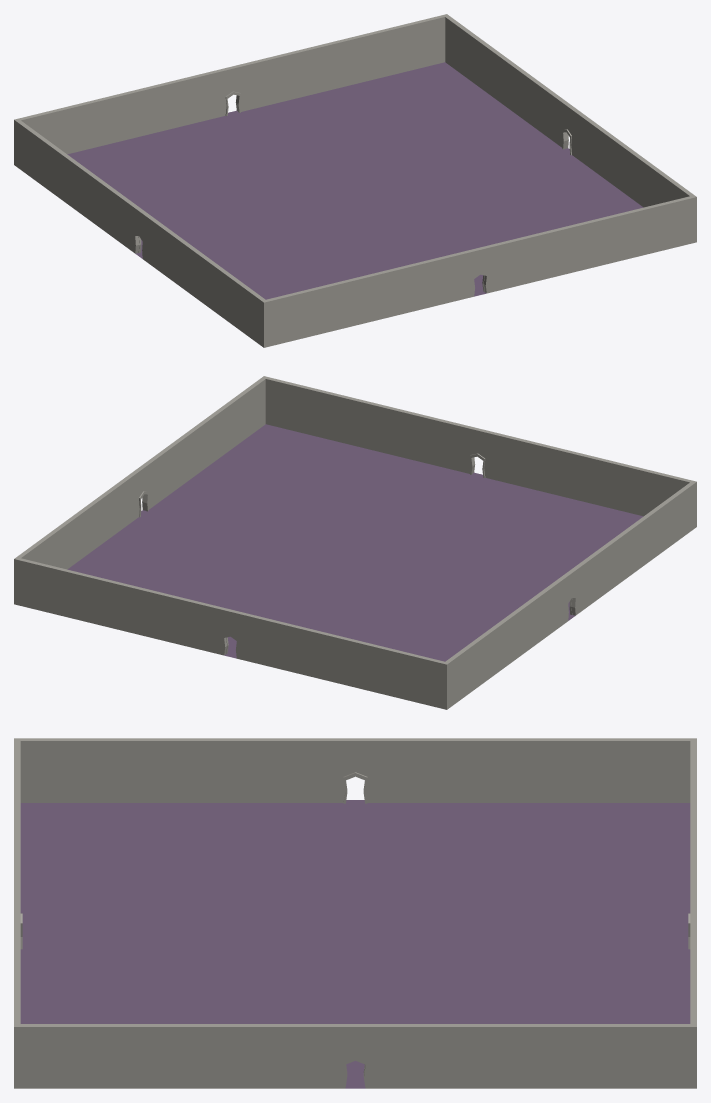
Rendered from Room.glb.
3 views of the same model, one above another, from view 1: azimuth 30°, elevation 25°; view 2: azimuth 150°, elevation 25°; view 3: azimuth 270°, elevation 25° (orthographic). The views are drawn at different scales.
Visible parts, largest first — view 1: Ground; view 2: Ground; view 3: Ground.
Boxes of the visible parts, <box> form: Ground: <box>14,14,696,347</box>; Ground: <box>14,376,696,709</box>; Ground: <box>14,738,696,1088</box>.
Size of what is drawn, in the model's own units: 200 by 20.04 by 200.
